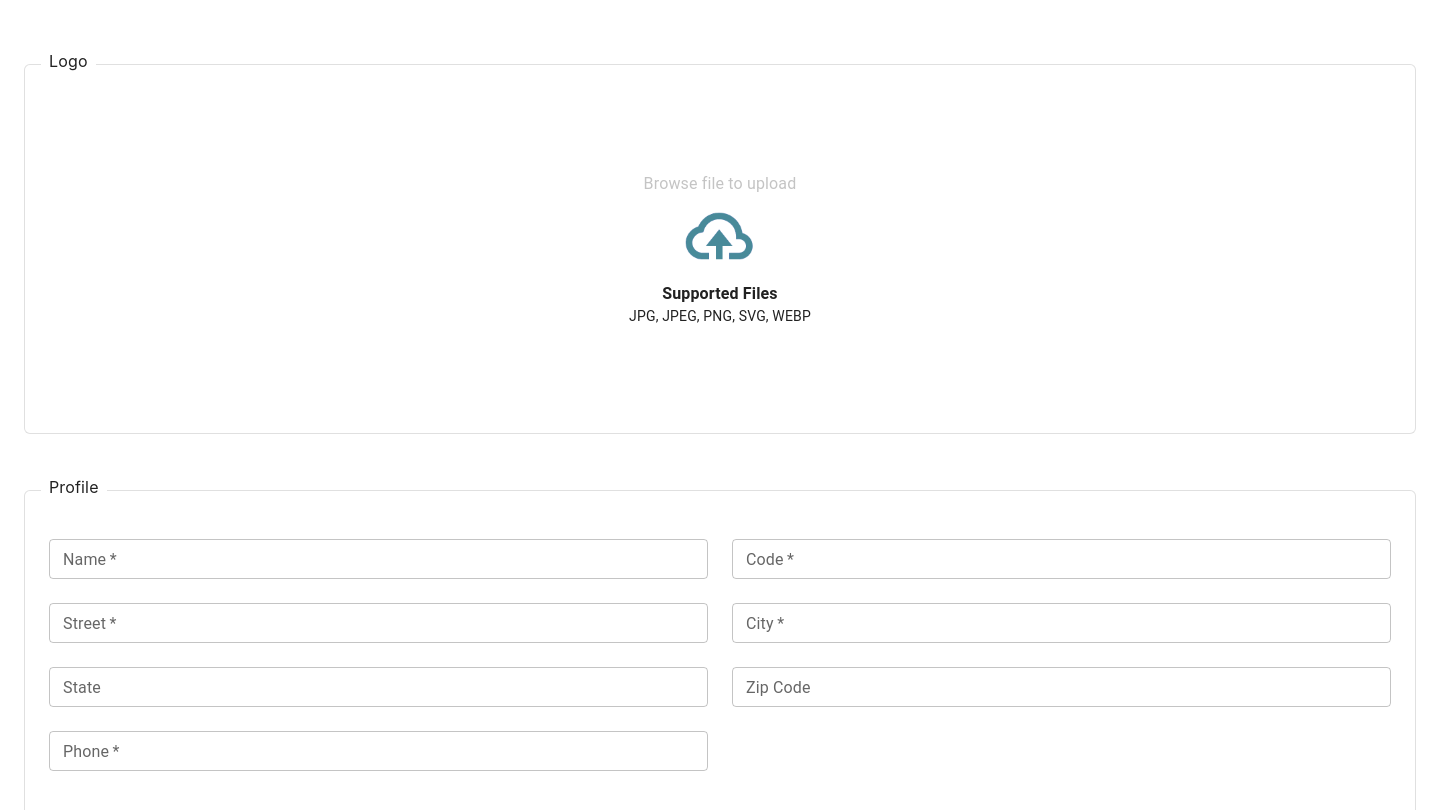
it: AddUpdateEployer › should show an alert with error message if there is server error
Type "BY - something" into the field labelled "Name *" at {"x": 378, "y": 559}, box [49, 539, 708, 579]
Type "by" into the field labelled "Code *" at {"x": 1062, "y": 559}, box [732, 539, 1391, 579]
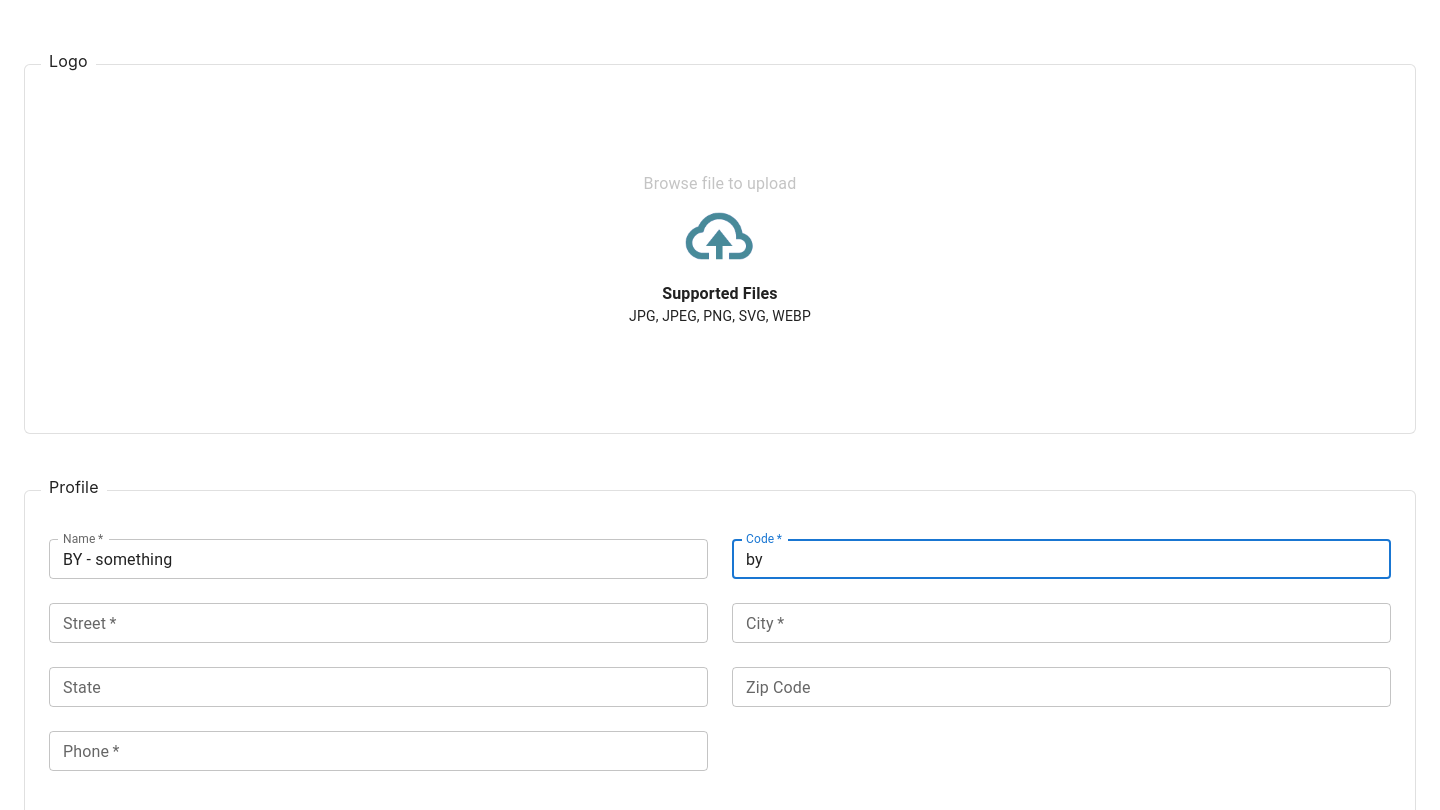
Type "debesu" into the field labelled "Street *" at {"x": 378, "y": 623}, box [49, 603, 708, 643]
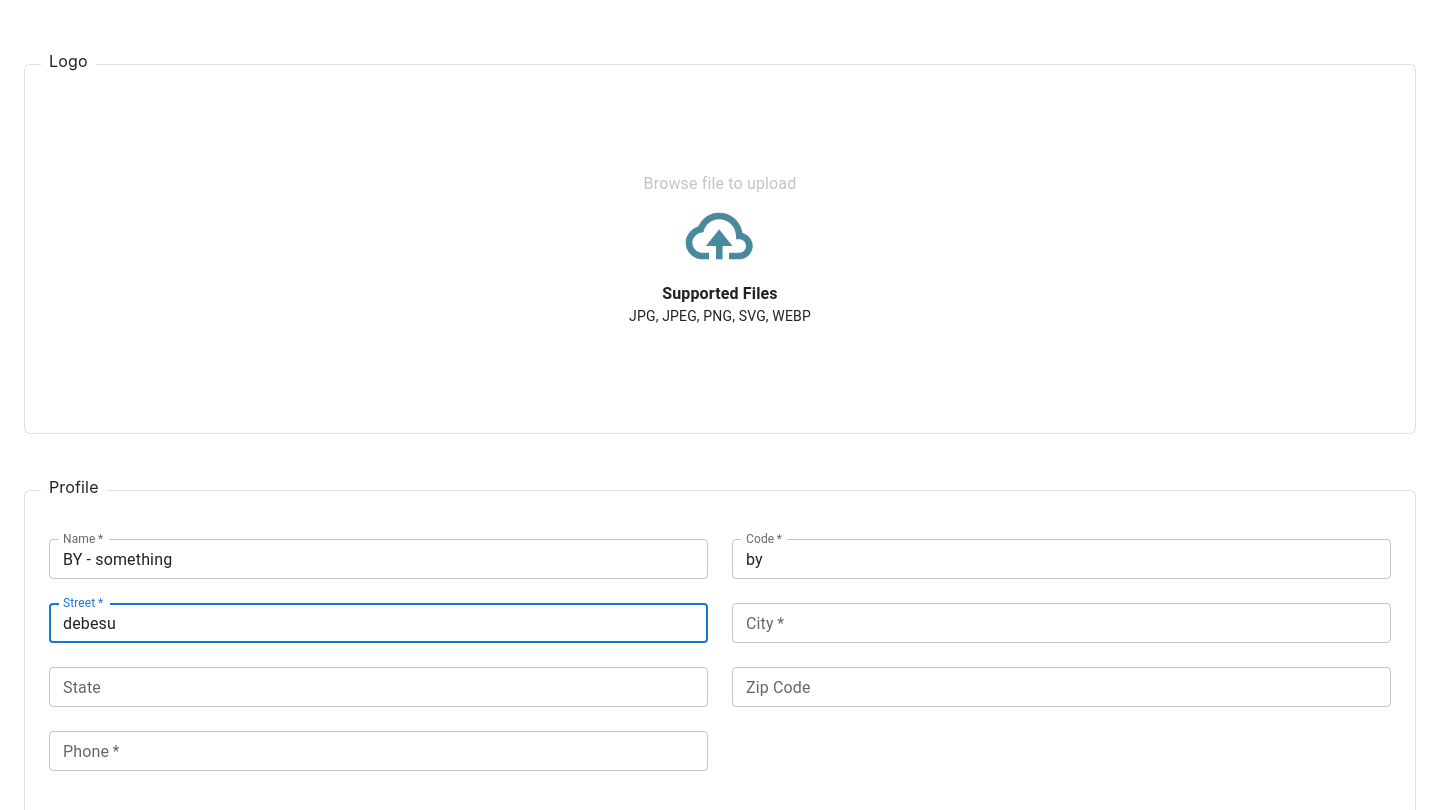
Type "paris" into the field labelled "City *" at {"x": 1062, "y": 623}, box [732, 603, 1391, 643]
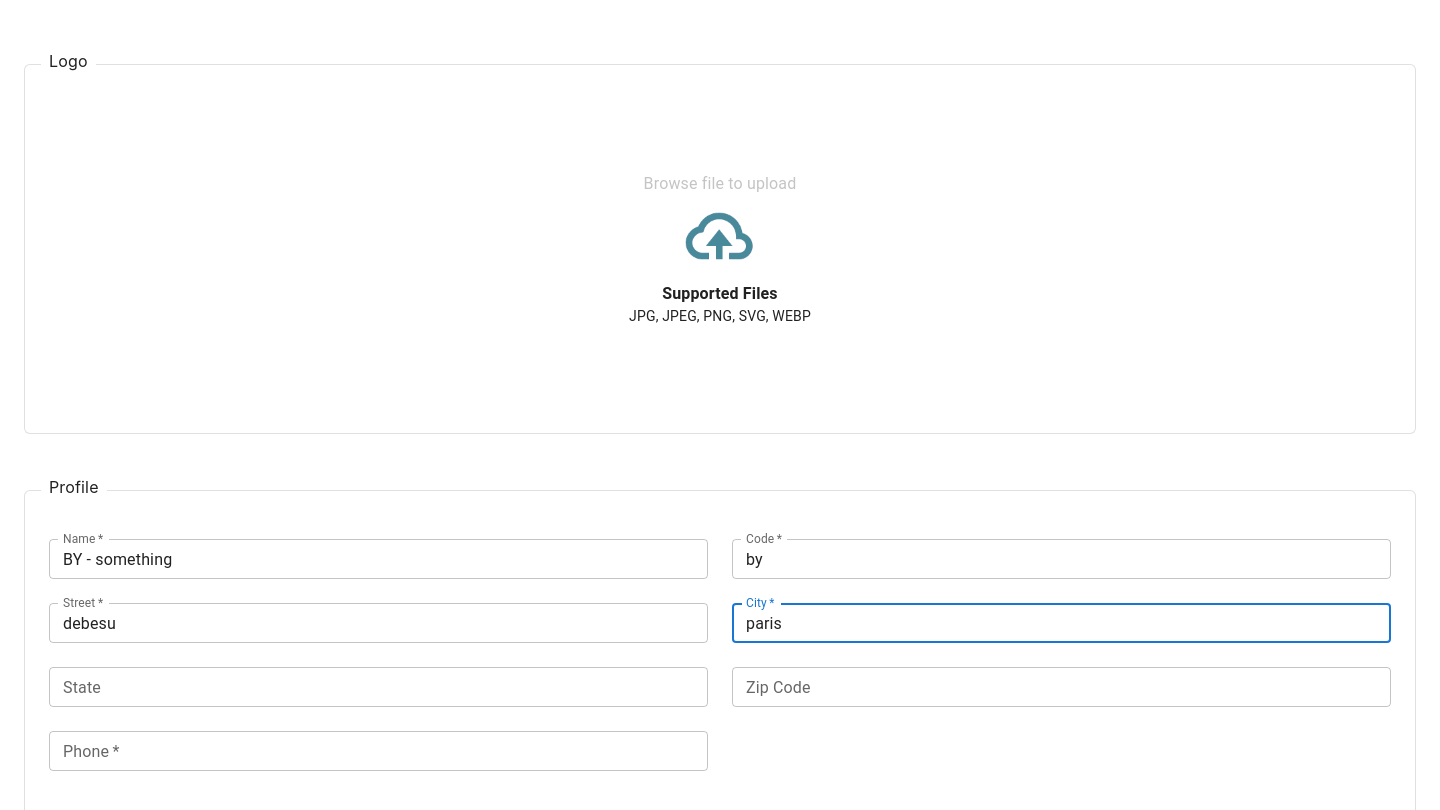
Type "+370 699 13990" into the field labelled "Phone *" at {"x": 378, "y": 751}, box [49, 731, 708, 771]
(page scrolled)
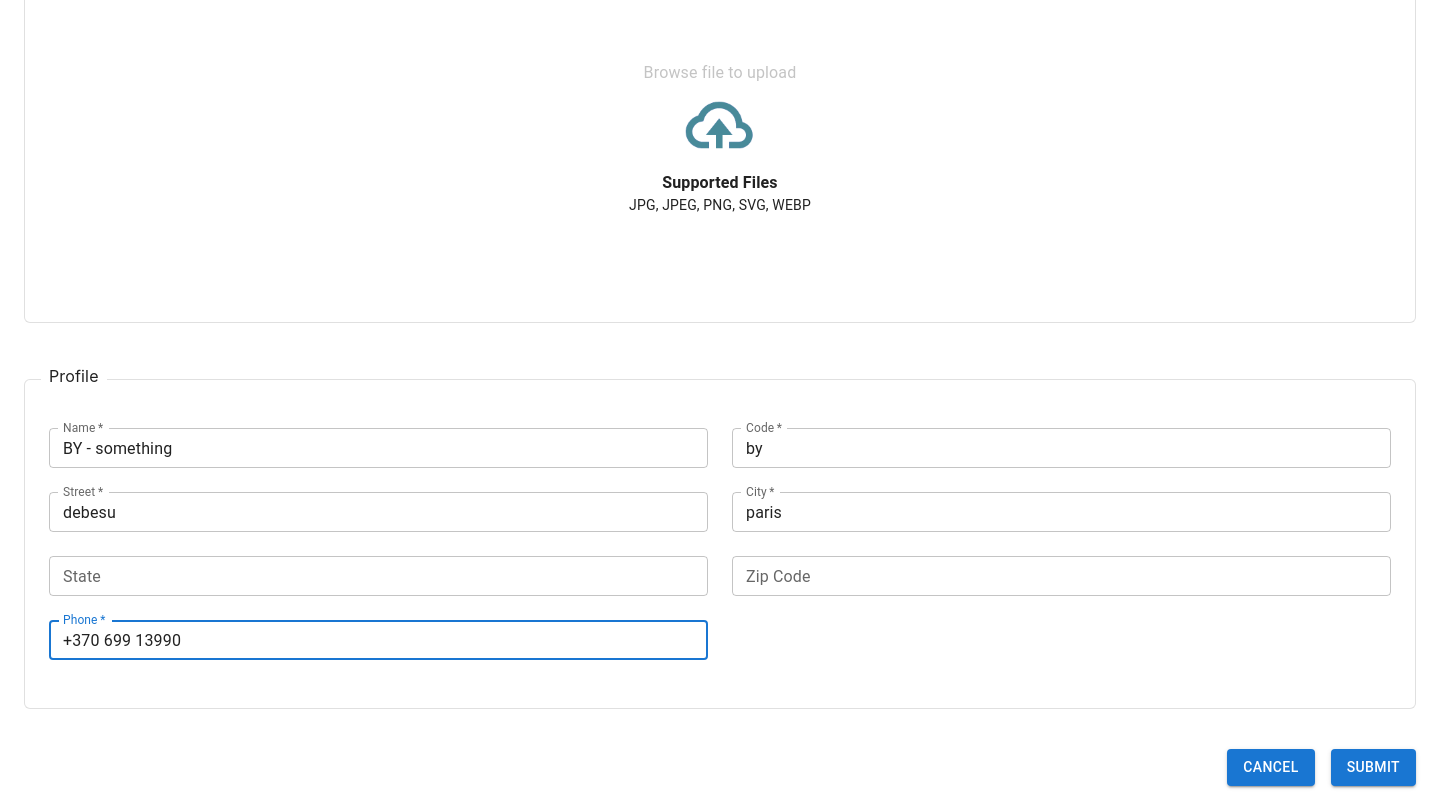
Click the button "Submit" at {"x": 1373, "y": 767}, box [1331, 749, 1416, 786]
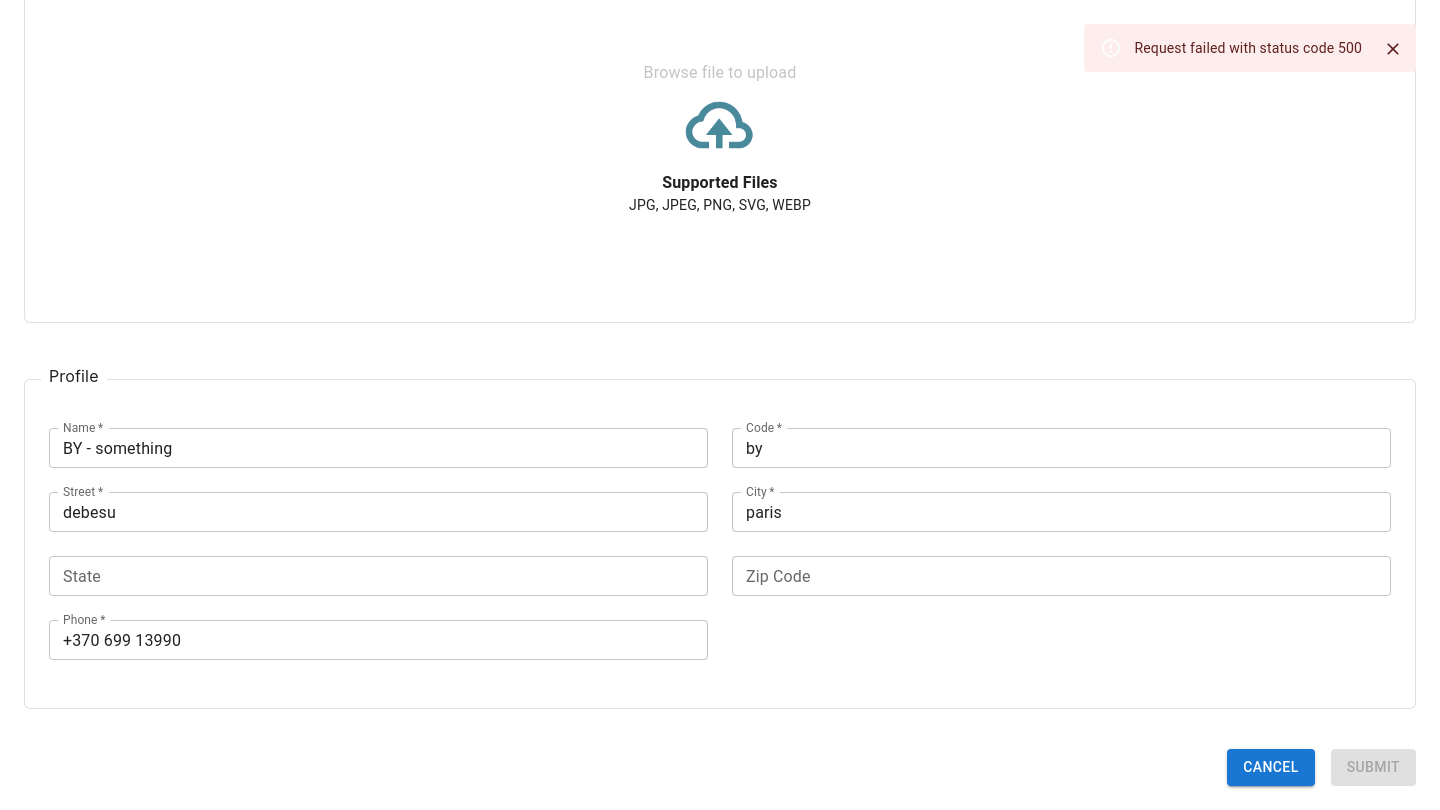
Expected: the message "Request failed with status code 500" is shown, [1084, 24, 1416, 72]
Expected: the text "Request failed with status code 500" is shown, [1134, 40, 1362, 56]
Expected: the button named "Close" is shown
Click the button named "Close" at {"x": 1393, "y": 49}, box [1378, 34, 1408, 64]
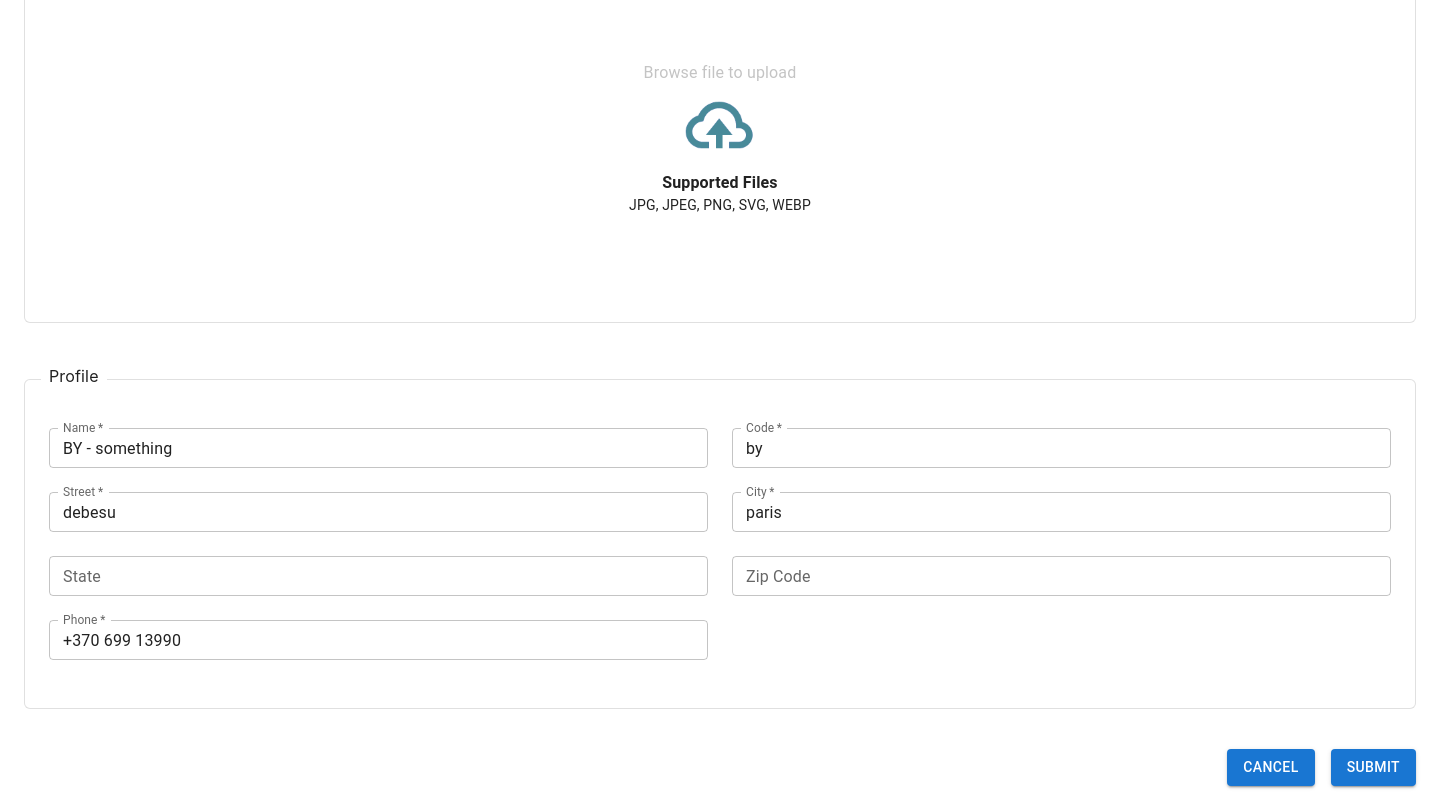
Expected: the message "Request failed with status code 500" is gone
